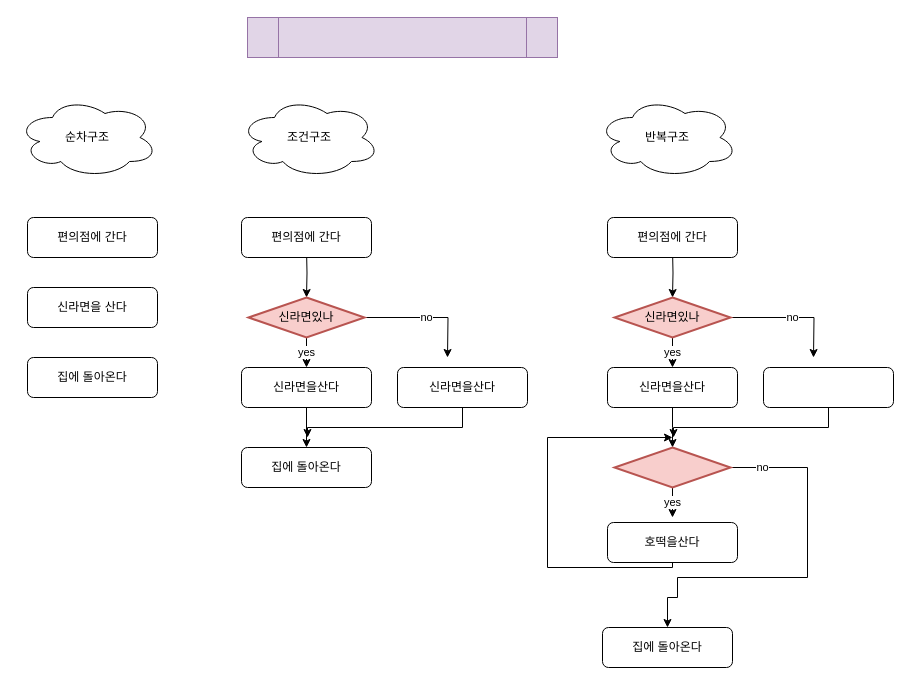
This 911x685 diagram has some shape labels left out. The box of each missing label's shape, as (x1, y1, x2, y2) in pixels:
잔돈이 호떡가격보다 남았냐: (613, 446, 731, 488)
진라면을산다: (762, 366, 894, 408)
표현방법 3가지: (246, 16, 558, 58)
